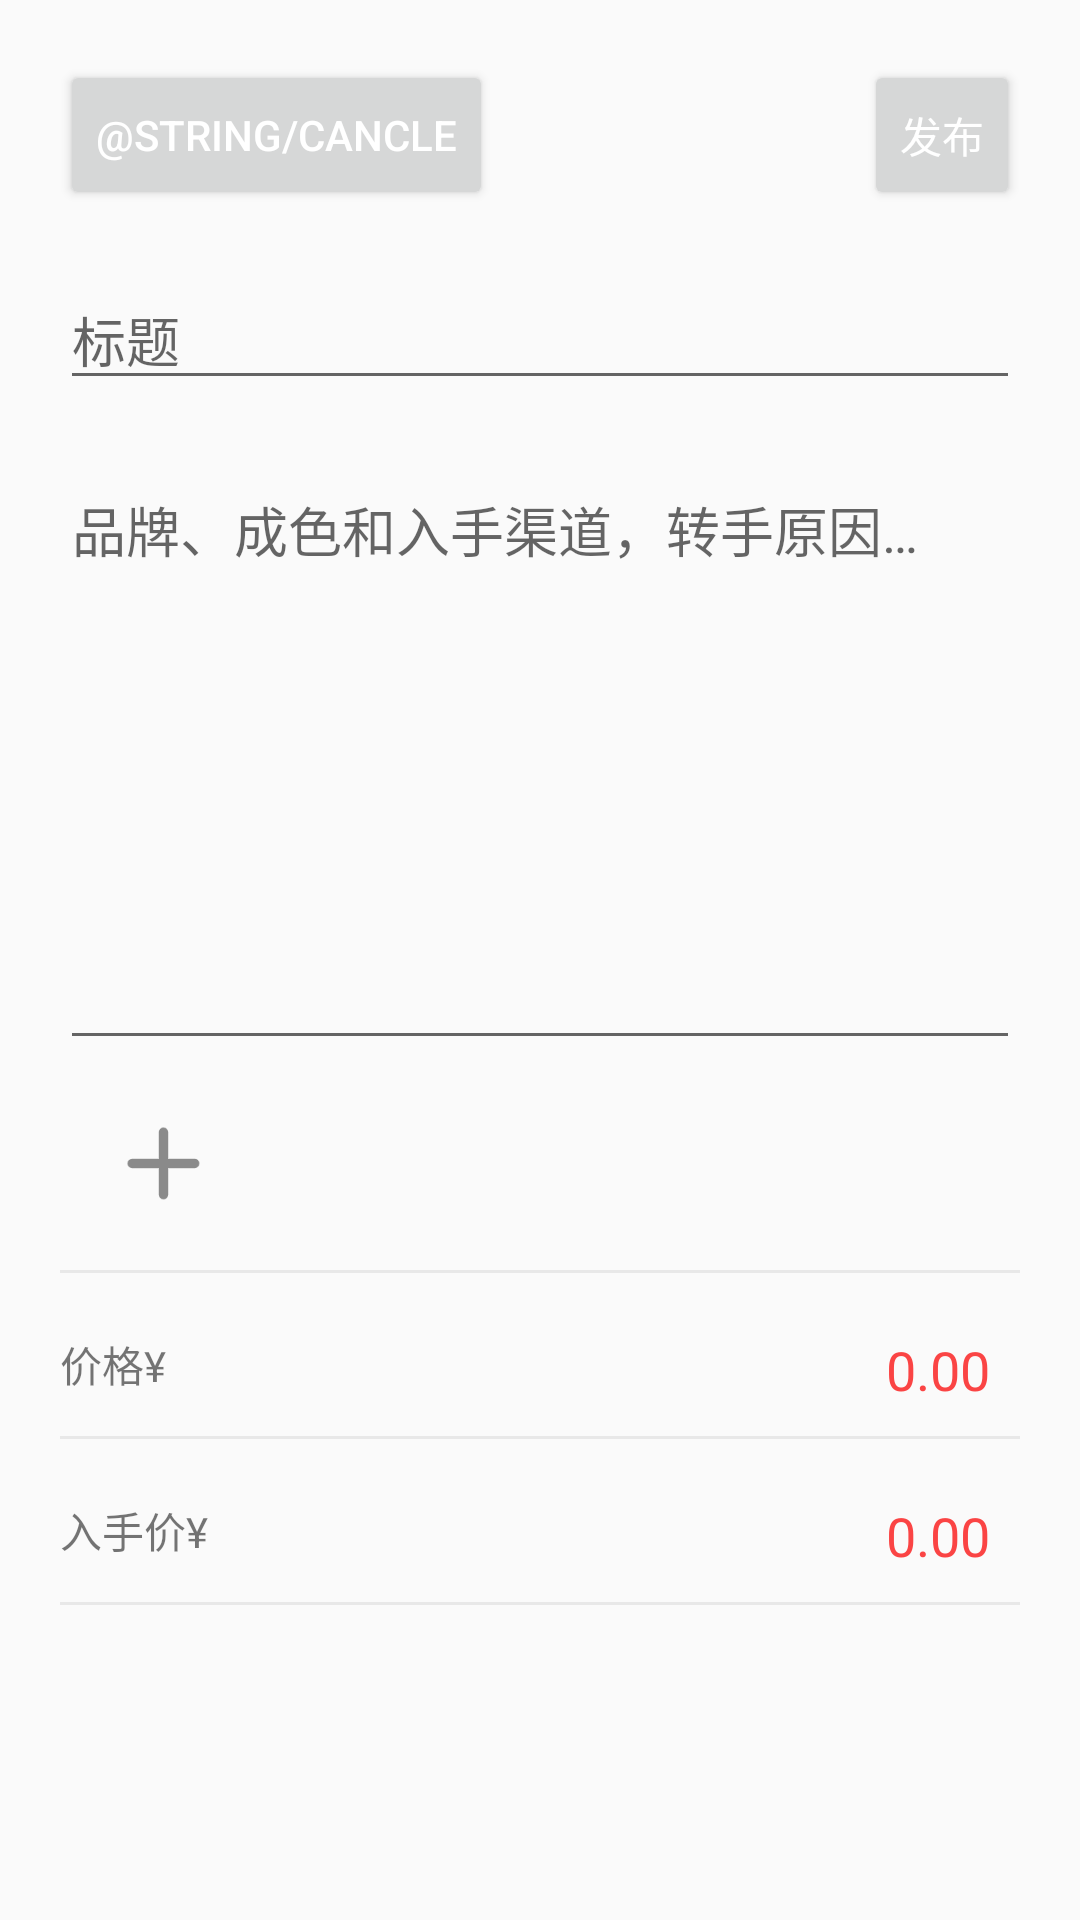

Icon bounding boxes for this 1080×1920 phone screenshot, format [left=x1, top=y1, right=x2, bottom=y2]:
add: [left=127, top=1127, right=200, bottom=1200]
